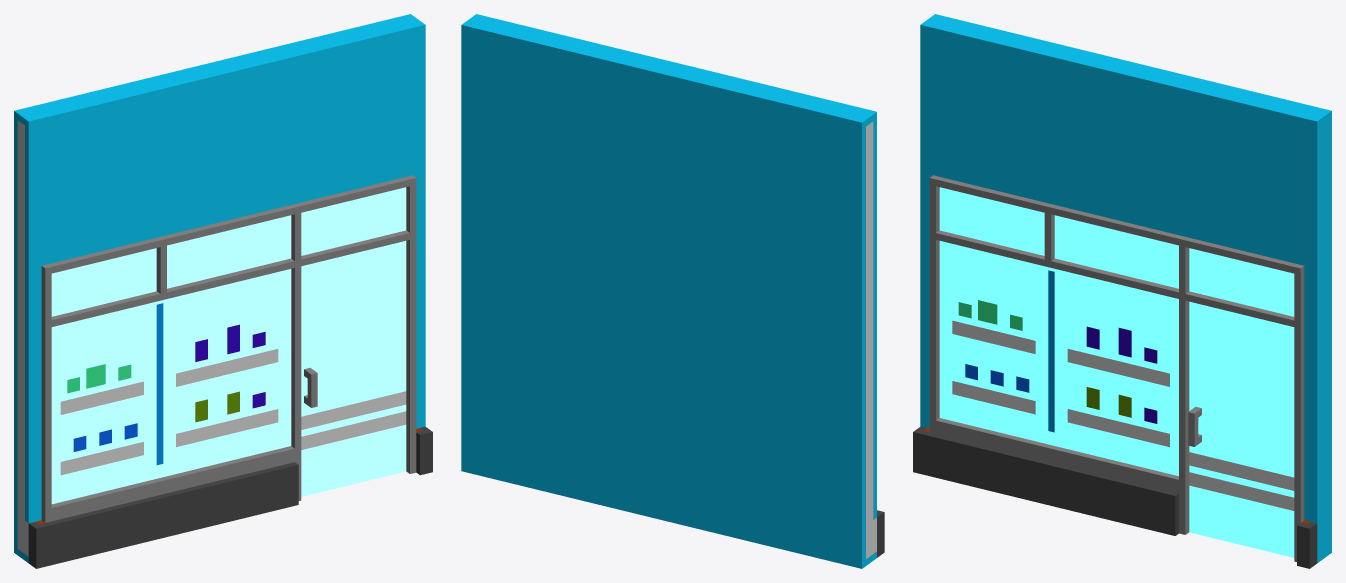
File: storeTwo.glb
3 views of the same model, side by side, from view 1: azimuth 30°, elevation 25°; view 2: azimuth 150°, elevation 25°; view 3: azimuth 330°, elevation 25° (orthographic).
Parts seen in each view (by area): view 1: ObjObject; view 2: ObjObject; view 3: ObjObject.
Boxes of the visible parts, x1,y1,x2,y2 form: ObjObject: (14, 14, 432, 568); ObjObject: (461, 14, 884, 568); ObjObject: (913, 14, 1331, 568).
Size of the model in its own units: 6.2 by 6.6 by 0.6.
Materials: 2 (1 with a texture image).
